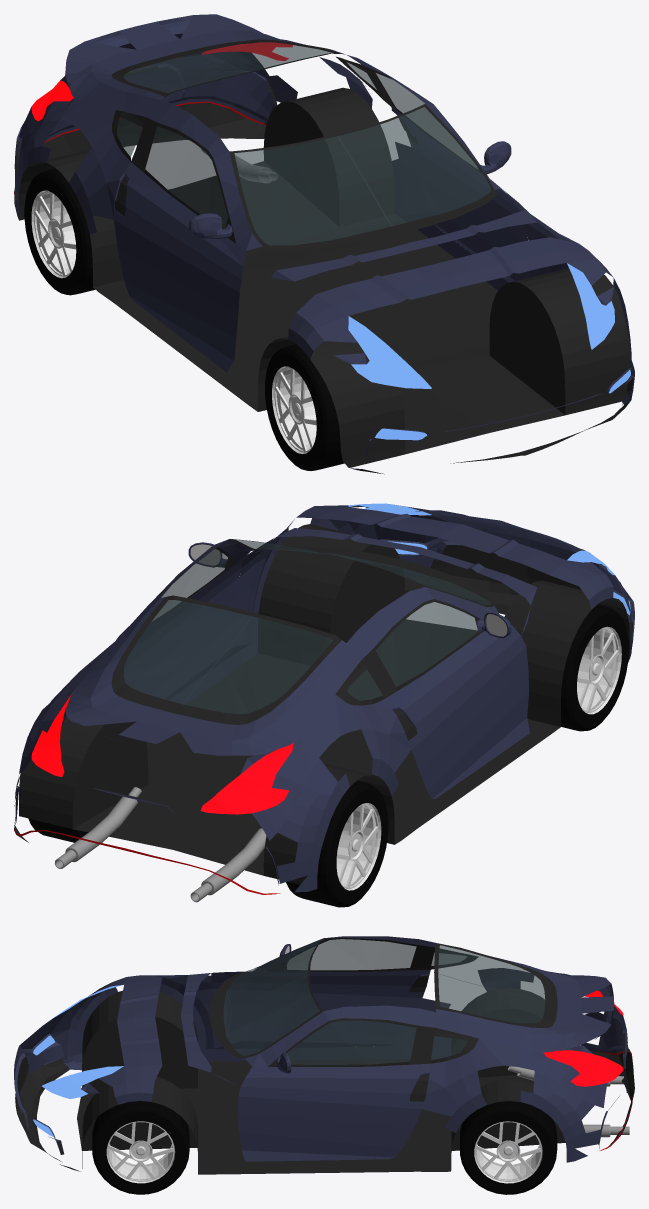
3 renders of one model, top to bottom at view 1: azimuth 30°, elevation 25°; view 2: azimuth 150°, elevation 25°; view 3: azimuth 270°, elevation 25°, orthographic. The views are drawn at different scales.
Parts seen in each view (by area): view 1: Circle_0, Circle.001_1, Circle.004_13, Circle.005_19, Circle.006_2, Plane.001_7, Circle.008_4, Circle.009_5, Circle.007_3; view 2: Circle_0, Circle.001_1, Circle.005_19, Circle.004_13, Circle.008_4, Circle.009_5, Circle.010_6, Plane.001_7, Circle.006_2, Circle.003_16; view 3: Circle_0, Circle.001_1, Circle.002_10, Circle.003_16, Circle.008_4, Circle.006_2, Circle.009_5.
Part boxes in pixels (left/top/right/bottom): Circle_0: left=14, top=14, right=634, bottom=474; Circle.001_1: left=114, top=55, right=528, bottom=372; Circle.004_13: left=265, top=344, right=344, bottom=470; Circle.005_19: left=24, top=168, right=95, bottom=295; Circle.006_2: left=348, top=263, right=614, bottom=388; Plane.001_7: left=188, top=141, right=511, bottom=238; Circle.008_4: left=31, top=42, right=292, bottom=121; Circle.009_5: left=201, top=149, right=277, bottom=182; Circle.007_3: left=375, top=370, right=630, bottom=440; Circle_0: left=14, top=504, right=634, bottom=894; Circle.001_1: left=124, top=539, right=529, bottom=799; Circle.005_19: left=286, top=781, right=388, bottom=907; Circle.004_13: left=561, top=604, right=628, bottom=731; Circle.008_4: left=31, top=695, right=293, bottom=814; Circle.009_5: left=55, top=787, right=141, bottom=868; Circle.010_6: left=190, top=828, right=266, bottom=902; Plane.001_7: left=188, top=542, right=511, bottom=638; Circle.006_2: left=348, top=503, right=614, bottom=575; Circle.003_16: left=28, top=818, right=88, bottom=842; Circle_0: left=14, top=938, right=634, bottom=1174; Circle.001_1: left=238, top=936, right=436, bottom=1161; Circle.002_10: left=92, top=1101, right=189, bottom=1194; Circle.003_16: left=460, top=1101, right=557, bottom=1194; Circle.008_4: left=543, top=990, right=623, bottom=1086; Circle.006_2: left=42, top=985, right=123, bottom=1098; Circle.009_5: left=583, top=1124, right=629, bottom=1137.
Size of the model in its own units: 3.14 by 2.12 by 6.88.
